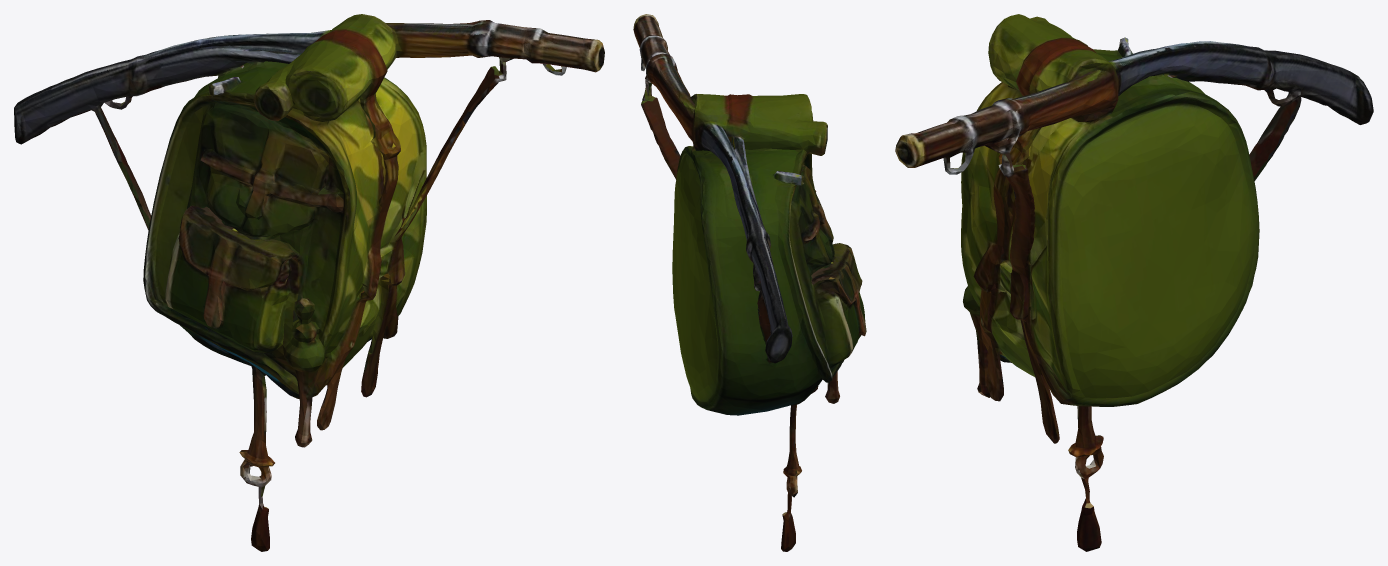
The model's file is backpack.glb.
The picture shows the model from 3 angles, left to right: view 1: azimuth 30°, elevation 25°; view 2: azimuth 150°, elevation 25°; view 3: azimuth 270°, elevation 25°; orthographic projection. The views are drawn at different scales.
Parts seen in each view (by area): view 1: tmp136151s7.ply; view 2: tmp136151s7.ply; view 3: tmp136151s7.ply.
Part boxes in pixels (bbox=[...]): tmp136151s7.ply: bbox=[14, 14, 604, 551]; tmp136151s7.ply: bbox=[633, 14, 866, 551]; tmp136151s7.ply: bbox=[895, 14, 1373, 551].
Size of the model in its own units: 1.57 by 1.98 by 1.57.
Materials: 1 (1 with a texture image).
